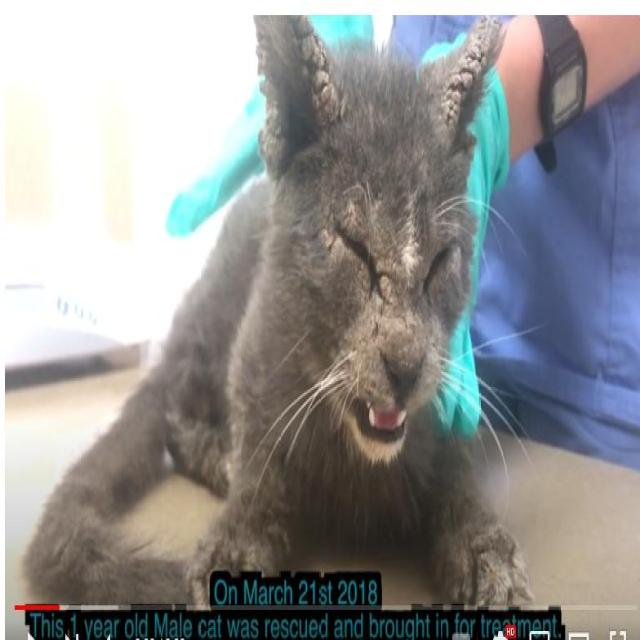ghe: (317, 191, 404, 321), (298, 20, 339, 172), (437, 44, 479, 165), (257, 18, 288, 168), (463, 548, 524, 606)
